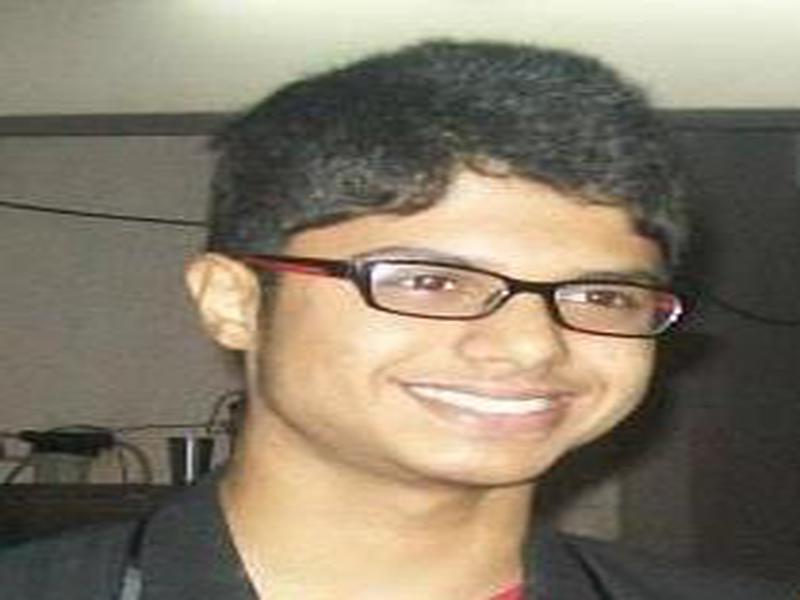without_mask: (261, 180, 655, 487)
